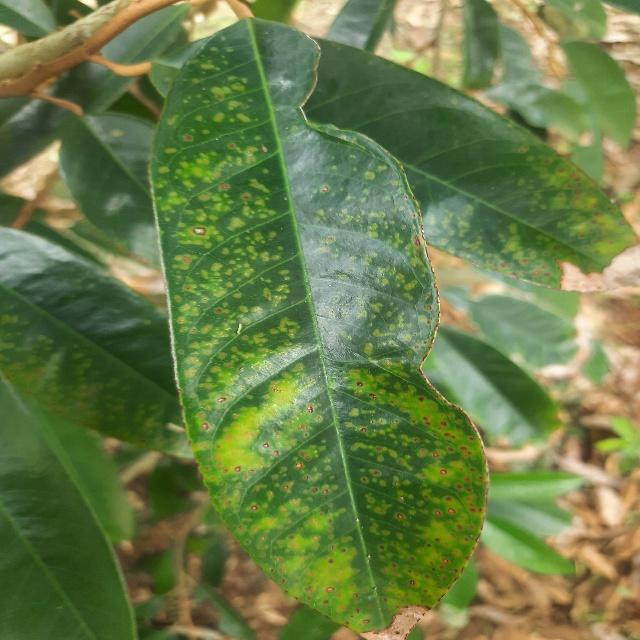Leaf Spot: (141, 9, 505, 640)
